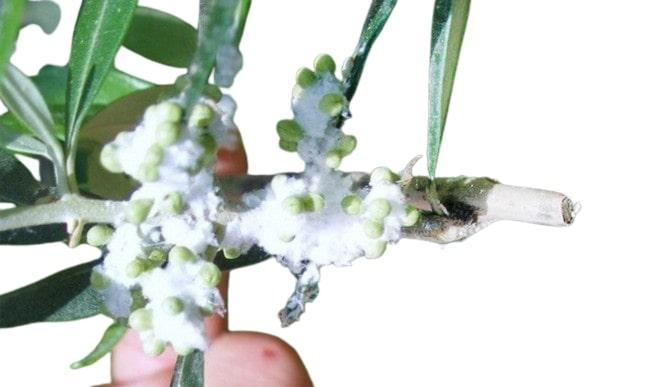Psyllid: (64, 115, 256, 357), (257, 51, 439, 278)
